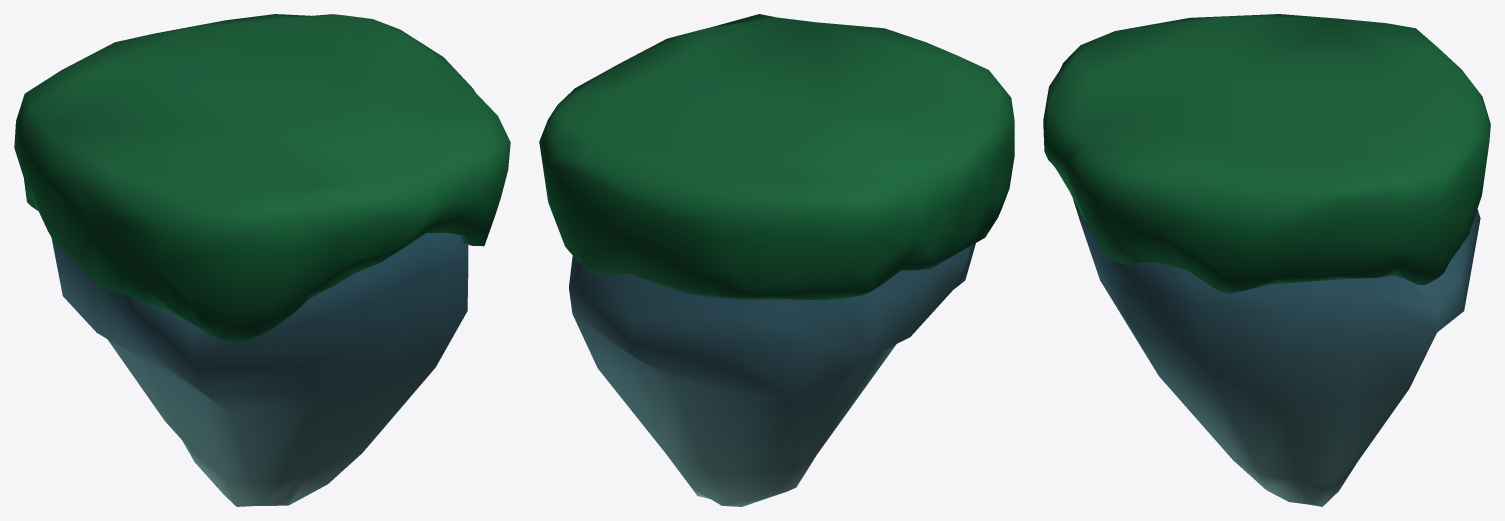
File: Bioma1_Floating_Isle.fbx
3 views of the same model, side by side, from view 1: azimuth 30°, elevation 25°; view 2: azimuth 150°, elevation 25°; view 3: azimuth 270°, elevation 25° (orthographic). The views are drawn at different scales.
Parts seen in each view (by area): view 1: Folliage_Floating_Rock1_0_1.006; view 2: Folliage_Floating_Rock1_0_1.006; view 3: Folliage_Floating_Rock1_0_1.006.
Part boxes in pixels (x1,y1,x2,y2): Folliage_Floating_Rock1_0_1.006: (14, 14, 510, 506); Folliage_Floating_Rock1_0_1.006: (539, 14, 1014, 506); Folliage_Floating_Rock1_0_1.006: (1043, 14, 1490, 506).
Bounding box in the file's own units: 921 × 897 × 930.
